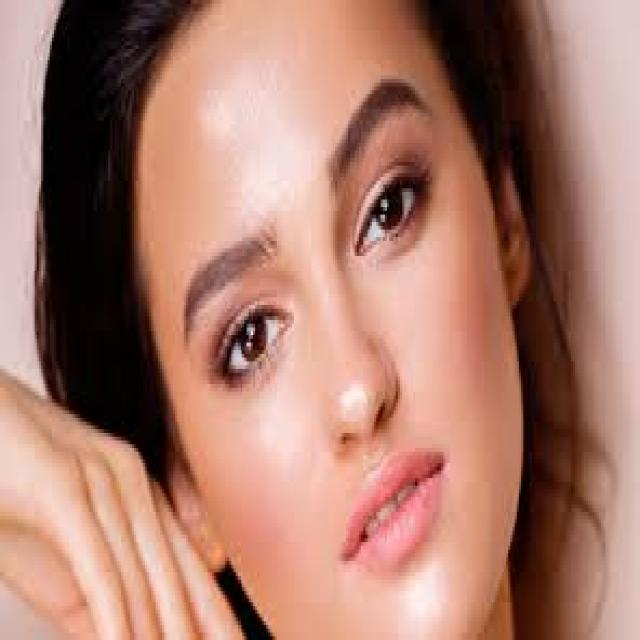normal skin: (143, 81, 488, 640)
